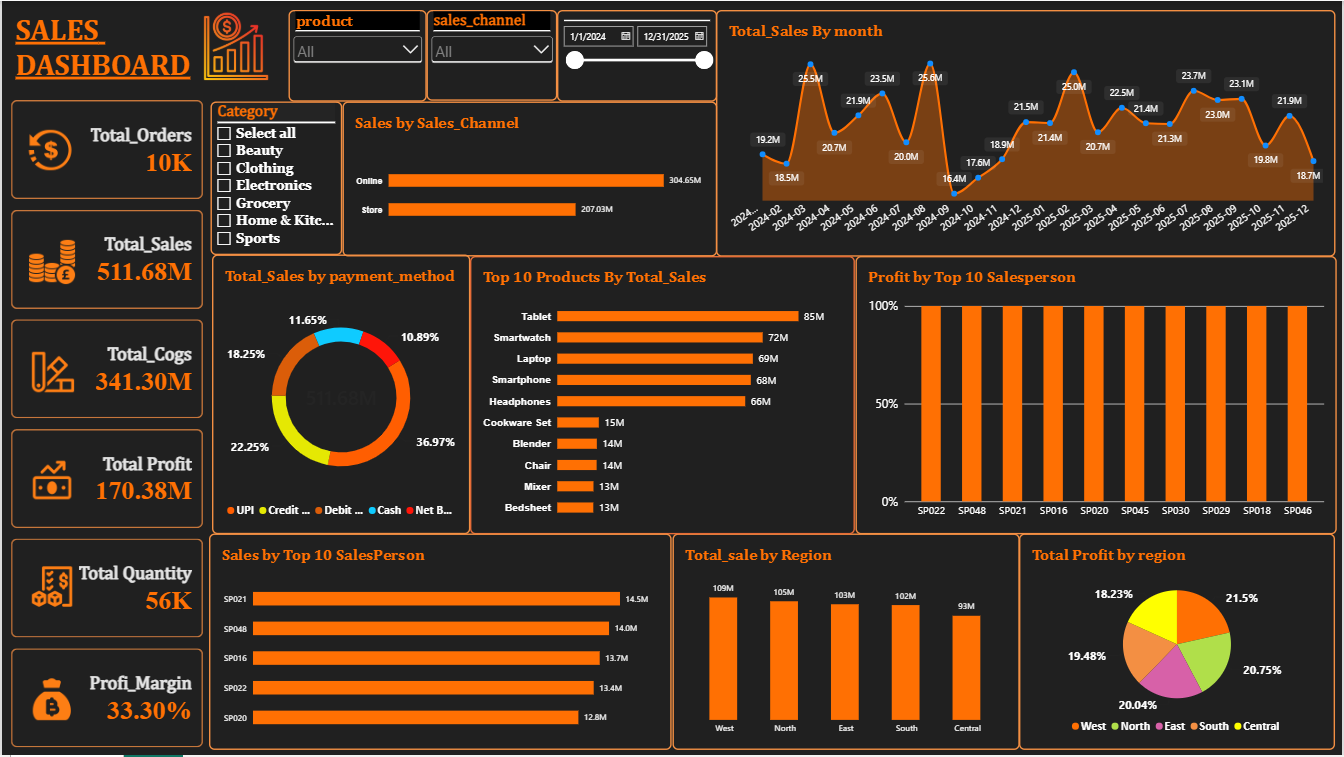

What the dashboard file says about the page in this screenshot:
{"tool":"powerbi","page":{"name":"Page 1","canvas":[1920,1080],"ordinal":0},"visuals":[{"type":"cardVisual","fields":{"Data":["Business_Sales_Analytics.Total_Transaction","Business_Sales_Analytics.Total_Sales","Business_Sales_Analytics.Total_Cogs","Business_Sales_Analytics.Total Profit","Business_Sales_Analytics.Toal_Quantity","Business_Sales_Analytics.Profi_Margin"]},"box":[12.5,142.5,275,930],"z":0},{"type":"columnChart","title":"Total_sale by Region","fields":{"Category":["Business_Sales_Analytics.region"],"Y":["Sum(Business_Sales_Analytics.total_sale)"]},"box":[960,762.5,497.5,310],"z":1000},{"type":"pieChart","fields":{"Y":["Business_Sales_Analytics.Total Profit"],"Category":["Business_Sales_Analytics.region"]},"box":[1457.5,762.5,452.5,310],"z":2000},{"type":"slicer","fields":{"Values":["Business_Sales_Analytics.category"]},"box":[298.2,143.2,188.5,220],"z":3000},{"type":"areaChart","title":"Total_Sales By month","fields":{"Y":["Business_Sales_Analytics.Total_Sales"],"Category":["Business_Sales_Analytics.YearMonth"]},"box":[1023.6,11.9,887.6,353.1],"z":4000},{"type":"donutChart","fields":{"Category":["Business_Sales_Analytics.payment_method"],"Y":["Business_Sales_Analytics.Total_Sales"]},"box":[300.6,362.7,369.8,400.8],"z":5000},{"type":"barChart","title":"Top 10 Products By Total_Sales","fields":{"Category":["Business_Sales_Analytics.product"],"Y":["Business_Sales_Analytics.Total_Sales"]},"box":[670.4,365,551.1,398.4],"z":6000},{"type":"slicer","fields":{"Values":["Business_Sales_Analytics.product"]},"box":[410.4,11.9,198,131.2],"z":7000},{"type":"slicer","fields":{"Values":["Business_Sales_Analytics.sales_channel"]},"box":[607.5,12.5,187.5,130],"z":8000},{"type":"slicer","fields":{"Values":["Business_Sales_Analytics.sale_date"]},"box":[794.5,11.9,229,131.2],"z":9000},{"type":"barChart","title":"Sales by Sales_Channel","fields":{"Y":["Sum(Business_Sales_Analytics.total_sale)"],"Category":["Business_Sales_Analytics.sales_channel"]},"box":[486.7,143.2,536.8,221.9],"z":10000},{"type":"barChart","title":"Sales by Top 10 SalesPerson","fields":{"Category":["Business_Sales_Analytics.salesperson"],"Y":["Business_Sales_Analytics.Total_Sales"]},"box":[297.5,762.5,662.5,310],"z":11000},{"type":"hundredPercentStackedColumnChart","title":"Profit by Top 10 Salesperson","fields":{"Y":["Business_Sales_Analytics.Total Profit"],"Category":["Business_Sales_Analytics.salesperson"]},"box":[1221.6,365,689.5,398.4],"z":12000},{"type":"textbox","box":[19.1,14.3,291.1,128.8],"z":13000},{"type":"image","box":[260.1,14.3,150.3,100.2],"z":14000},{"type":"image","box":[38.6,320.3,65.9,104.5],"z":15000},{"type":"image","box":[38.6,479.2,65.9,104.5],"z":16000},{"type":"image","box":[38.6,633.7,65.9,104.5],"z":17000},{"type":"image","box":[38.6,785.9,65.9,104.5],"z":18000},{"type":"image","box":[36.3,161.3,65.9,104.5],"z":19000},{"type":"image","box":[38.6,947.1,65,105],"z":20000}]}

Visuals, with their boxes in screenshot pixels (x1, y1, x2, y2), scaled from the page's 1920x1080 canvas onto the 1344x757 screenshot:
cardVisual - Business_Sales_Analytics.Total_Transaction x Business_Sales_Analytics.Total_Sales: 9 100 201 752
"Total_sale by Region" columnChart: 672 534 1020 752
pieChart - Business_Sales_Analytics.Total Profit x Business_Sales_Analytics.region: 1020 534 1337 752
slicer - Business_Sales_Analytics.category: 209 100 341 255
"Total_Sales By month" areaChart: 717 8 1338 256
donutChart - Business_Sales_Analytics.payment_method x Business_Sales_Analytics.Total_Sales: 210 254 469 535
"Top 10 Products By Total_Sales" barChart: 469 256 855 535
slicer - Business_Sales_Analytics.product: 287 8 426 100
slicer - Business_Sales_Analytics.sales_channel: 425 9 556 100
slicer - Business_Sales_Analytics.sale_date: 556 8 716 100
"Sales by Sales_Channel" barChart: 341 100 716 256
"Sales by Top 10 SalesPerson" barChart: 208 534 672 752
"Profit by Top 10 Salesperson" hundredPercentStackedColumnChart: 855 256 1338 535
textbox: 13 10 217 100
image: 182 10 287 80
image: 27 225 73 298
image: 27 336 73 409
image: 27 444 73 517
image: 27 551 73 624
image: 25 113 72 186
image: 27 664 73 737
